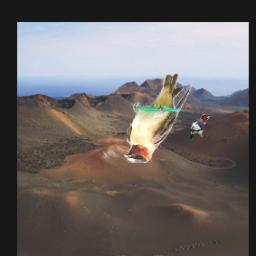Swallow: (124, 73, 193, 163)
Woodpecker: (189, 115, 212, 141)
